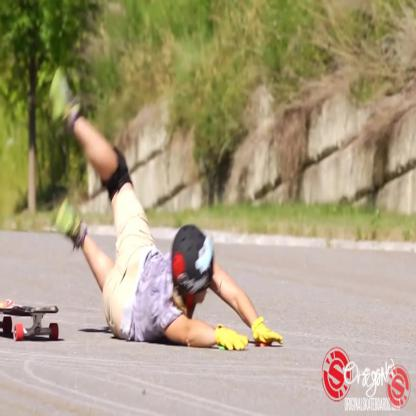Fall_Down: (45, 59, 287, 354)
